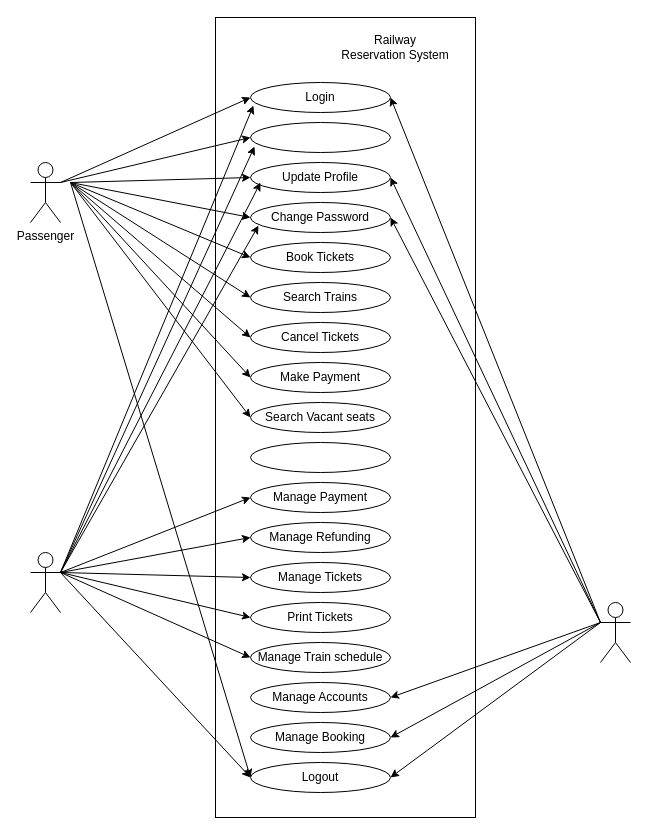
Some shapes in this 650 by 835 pixel diagram are drawn without their labels. The box of each missing label's shape, as (x1, y1, x2, y2) in pixels:
Admin: (600, 602, 630, 662)
Clerk: (30, 552, 60, 612)
Collect Payment: (250, 442, 390, 472)
Register: (250, 122, 390, 152)
